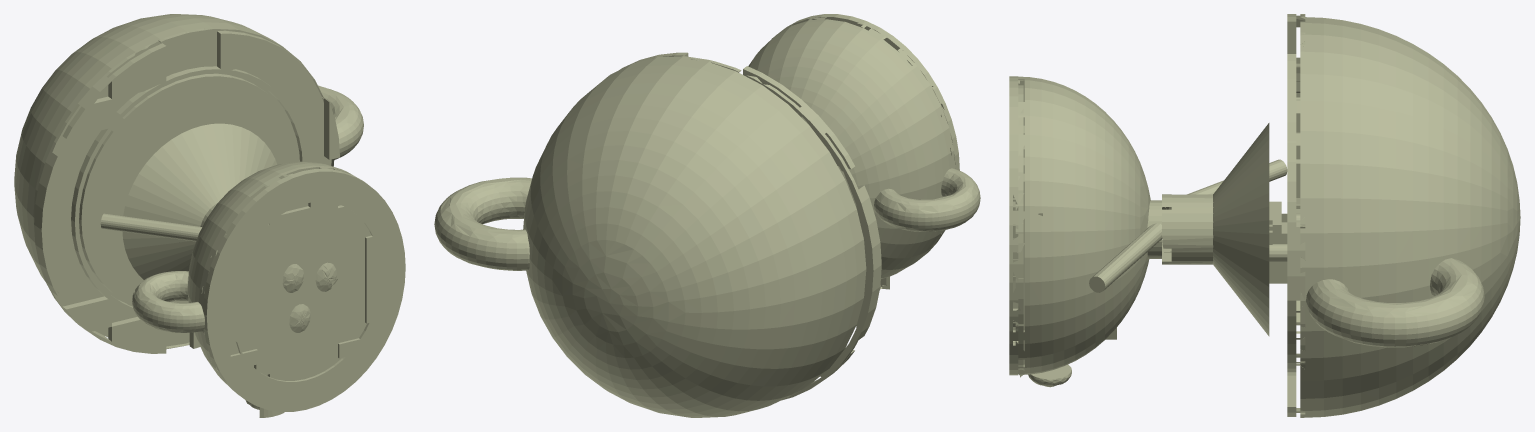
The model's file is tinker.obj.
3 views of the same model, side by side, from view 1: azimuth 30°, elevation 25°; view 2: azimuth 150°, elevation 25°; view 3: azimuth 270°, elevation 25° (orthographic). The views are drawn at different scales.
Parts seen in each view (by area): view 1: obj_0; view 2: obj_0; view 3: obj_0.
Part boxes in pixels (x1,y1,x2,y2): obj_0: [14, 14, 405, 417]; obj_0: [434, 14, 980, 417]; obj_0: [1009, 14, 1520, 417].
Size of the model in its own units: 54 by 45 by 57.
